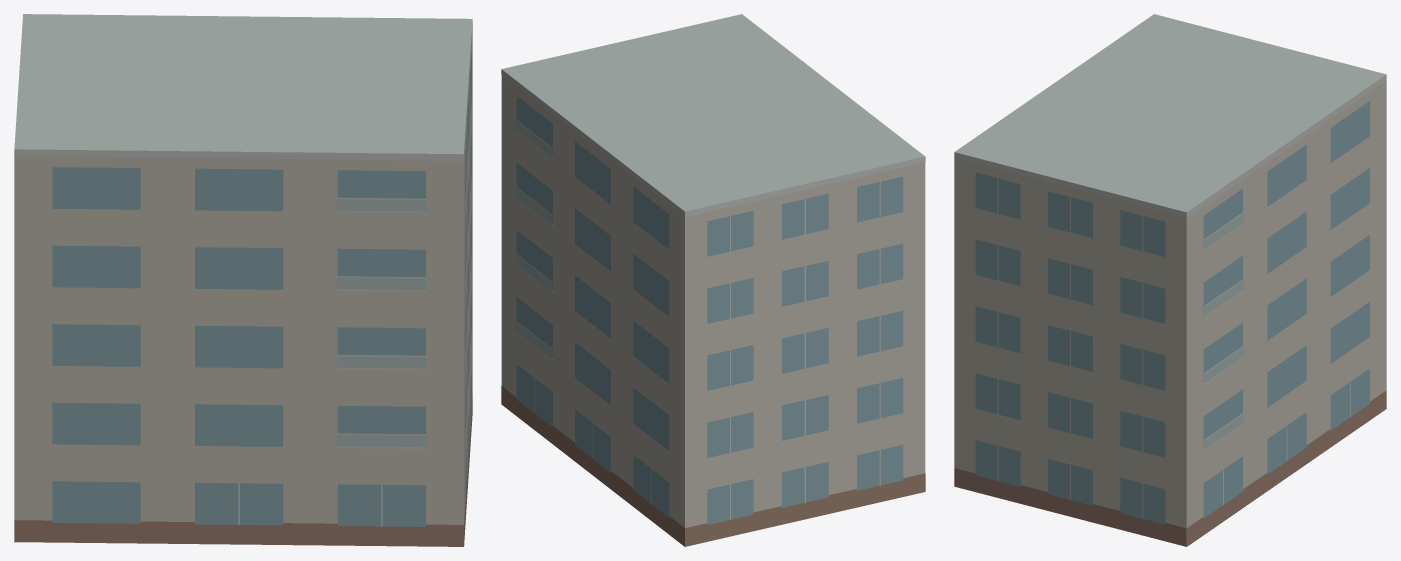
The model's file is survey-upis-32699721.glb.
3 views of the same model, side by side, from view 1: azimuth 30°, elevation 25°; view 2: azimuth 150°, elevation 25°; view 3: azimuth 270°, elevation 25° (orthographic). The views are drawn at different scales.
Visible parts, largest first — view 1: survey-upis-32699721.tmp; view 2: survey-upis-32699721.tmp; view 3: survey-upis-32699721.tmp.
Part boxes in pixels (x1,y1,x2,y2): survey-upis-32699721.tmp: (14,14,472,546); survey-upis-32699721.tmp: (501,14,925,546); survey-upis-32699721.tmp: (954,14,1386,546).
Size of the model in its own units: 18.09 by 14.21 by 16.65.
